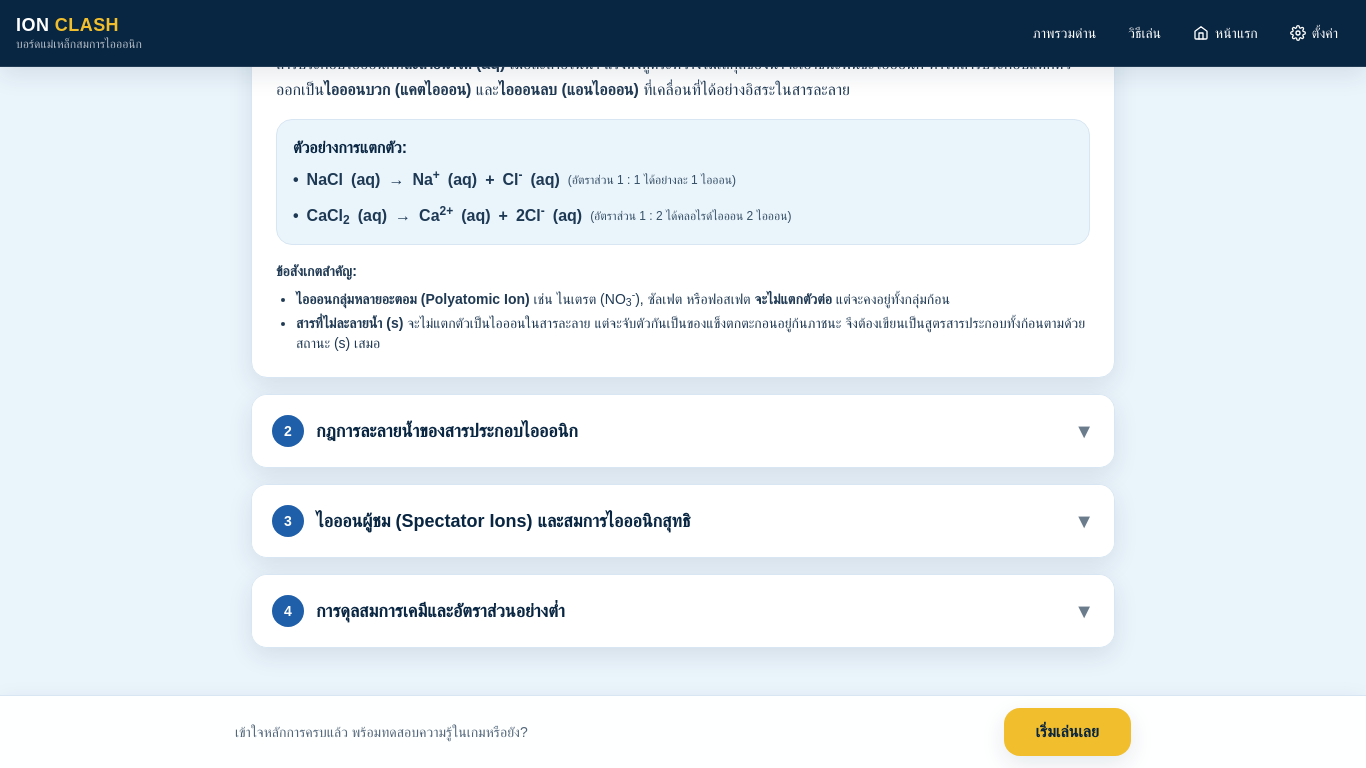
Scenario: Knowledge Page (/knowledge) › แสดงครบทั้ง 4 หัวข้อแบบ accordion และสามารถเปิด-ปิดได้
(page scrolled)
Check: the button "3 ไอออนผู้ชม (Spectator Ions) และสมการไอออนิกสุทธิ ▼" is shown, box [252,484,1114,556]
Check: the button "4 การดุลสมการเคมีและอัตราส่วนอย่างต่ำ ▼" is shown, box [252,574,1114,646]
Click section 2 to open
Click the button "2 กฎการละลายน้ำของสารประกอบไอออนิก ▼".
click(288, 430)  # box [252,394,1114,466]
(page scrolled)
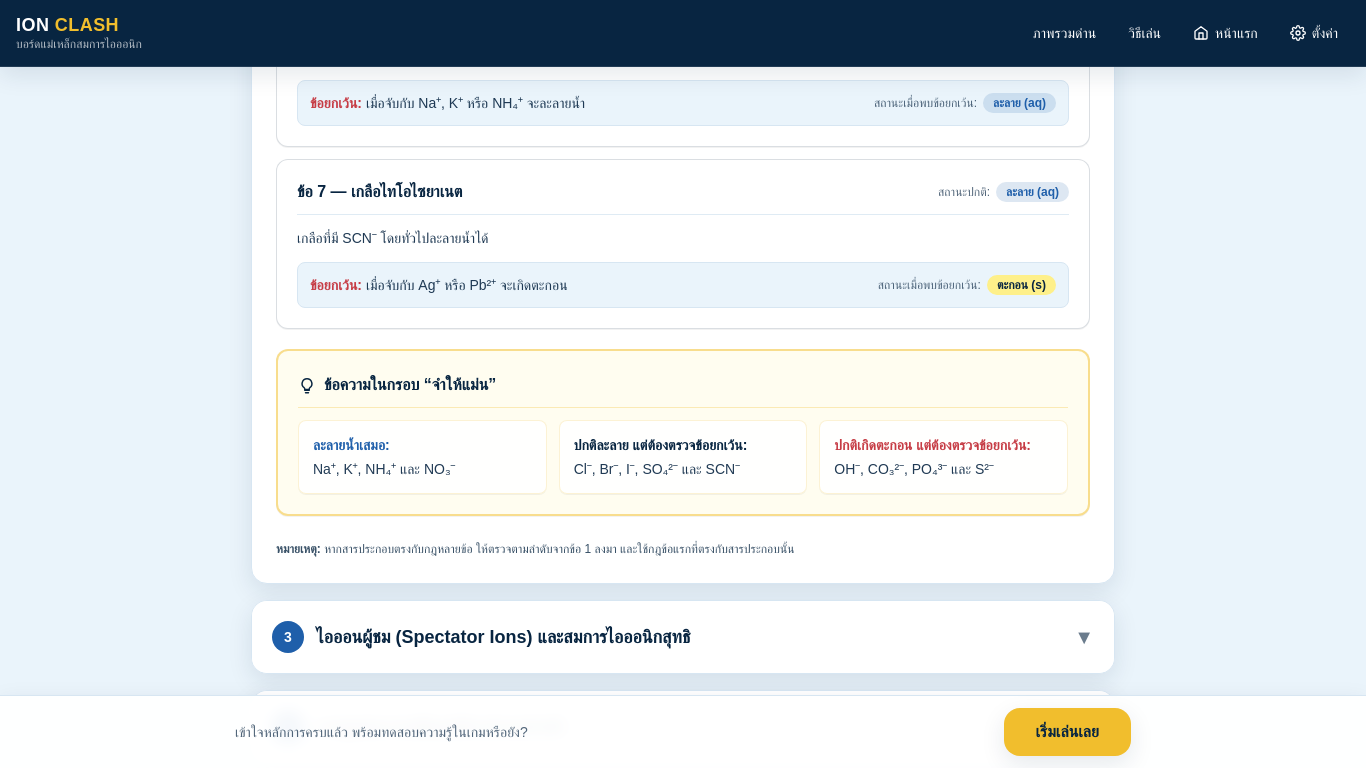
Check: the heading "ข้อความในกรอบ “จำให้แม่น”" is shown, box [324,372,496,396]
